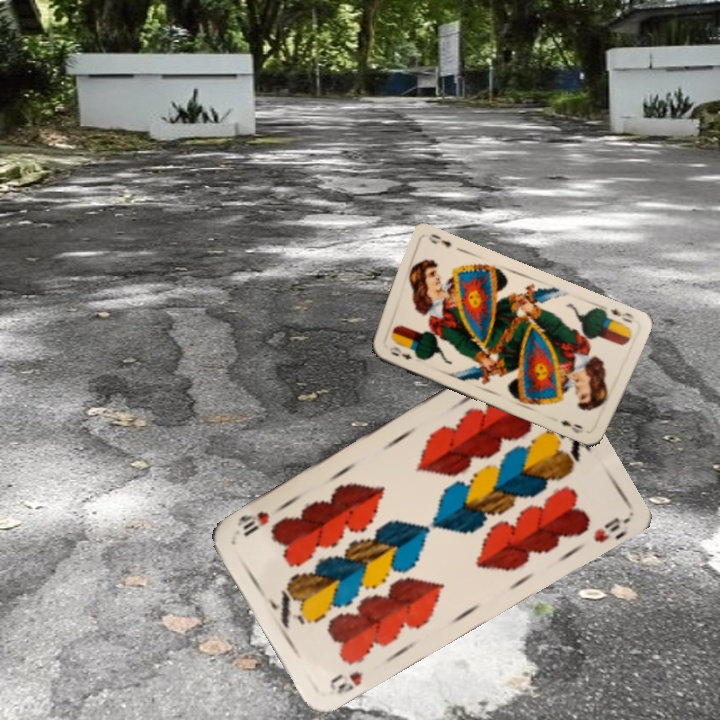EO: (606, 304, 636, 326), (385, 342, 414, 363)
H10: (325, 667, 366, 699)
